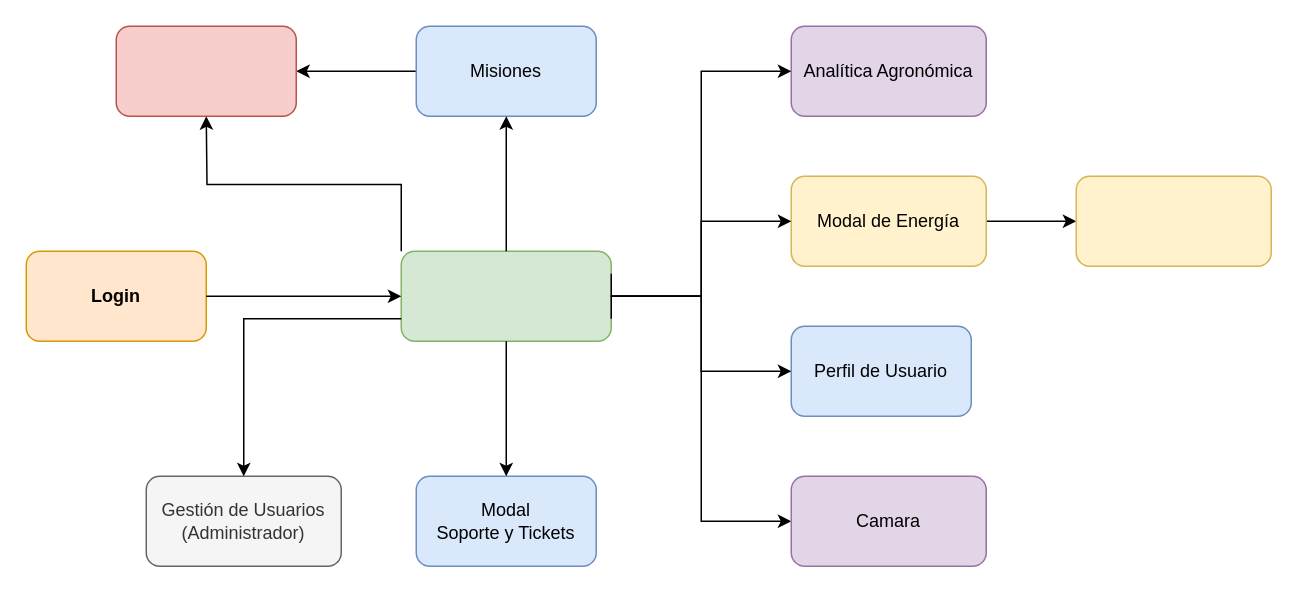
Some shapes in this 1298 by 593 pixel diagram are drawn without their labels. Here are the shapes that lost their labels. From the top down, the box of each, then its label:
(115, 25, 296, 116): Centro de Control
(1075, 175, 1271, 266): Analítica de Energía
(400, 250, 611, 341): Inicio (Dashboard)
